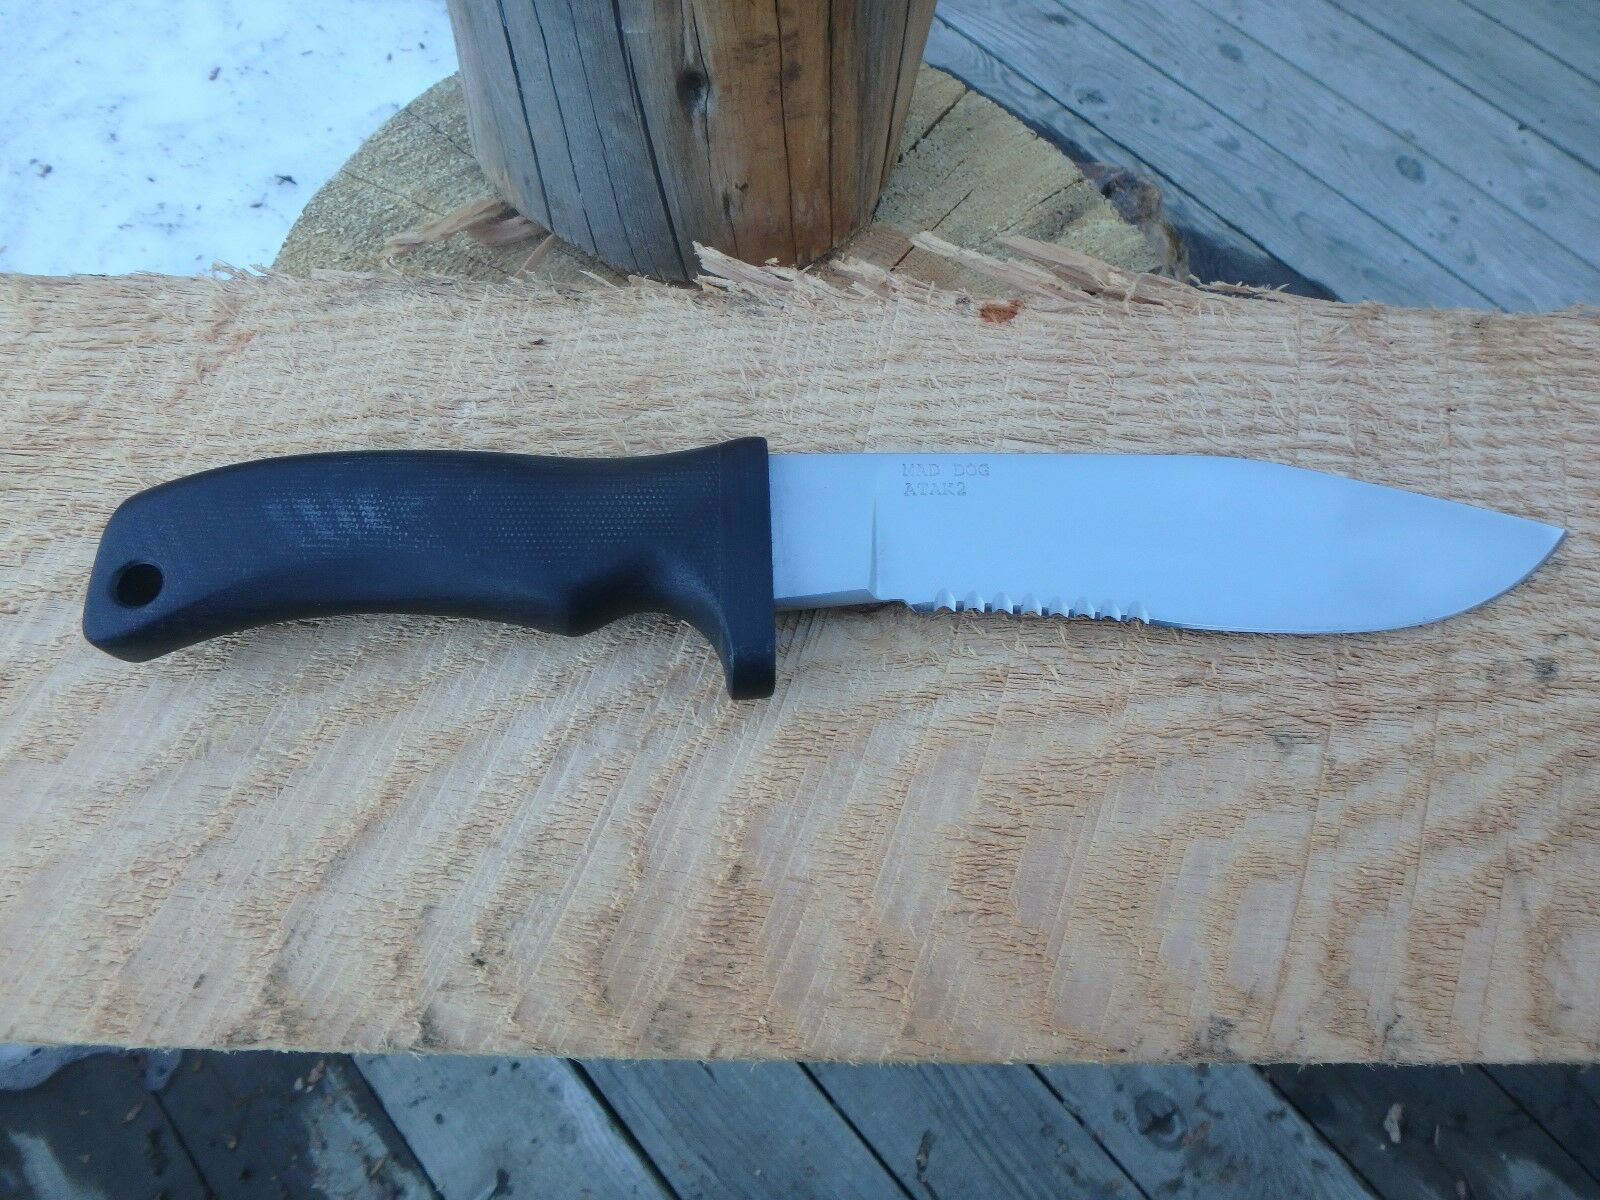knief: (50, 424, 1587, 700)
